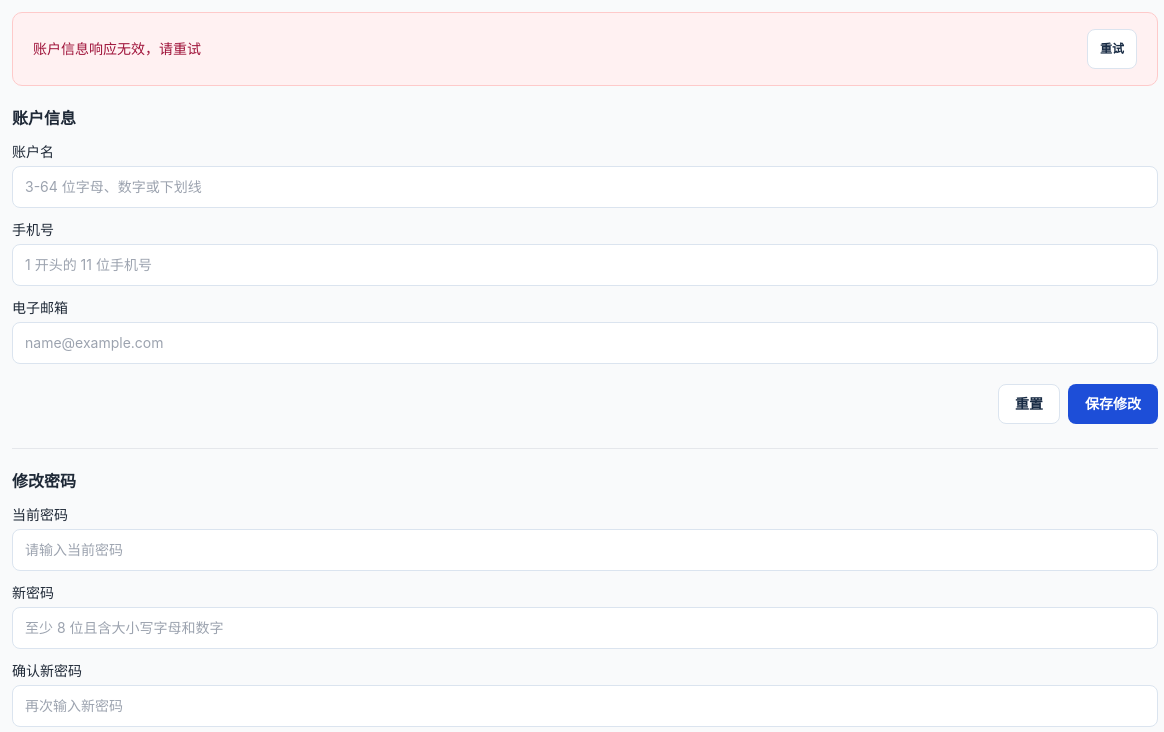
Test: account form with the real API client and auth store › keeps a malformed GET unloaded and retries only after an explicit user action
Expected: the message "账户信息响应无效，请重试 重试" is shown, [12, 12, 1158, 86]
Expected: the button "保存修改" is disabled, [1068, 384, 1158, 424]
Step 1. Click the button "重试" → (1112, 49), box [1087, 29, 1137, 69]
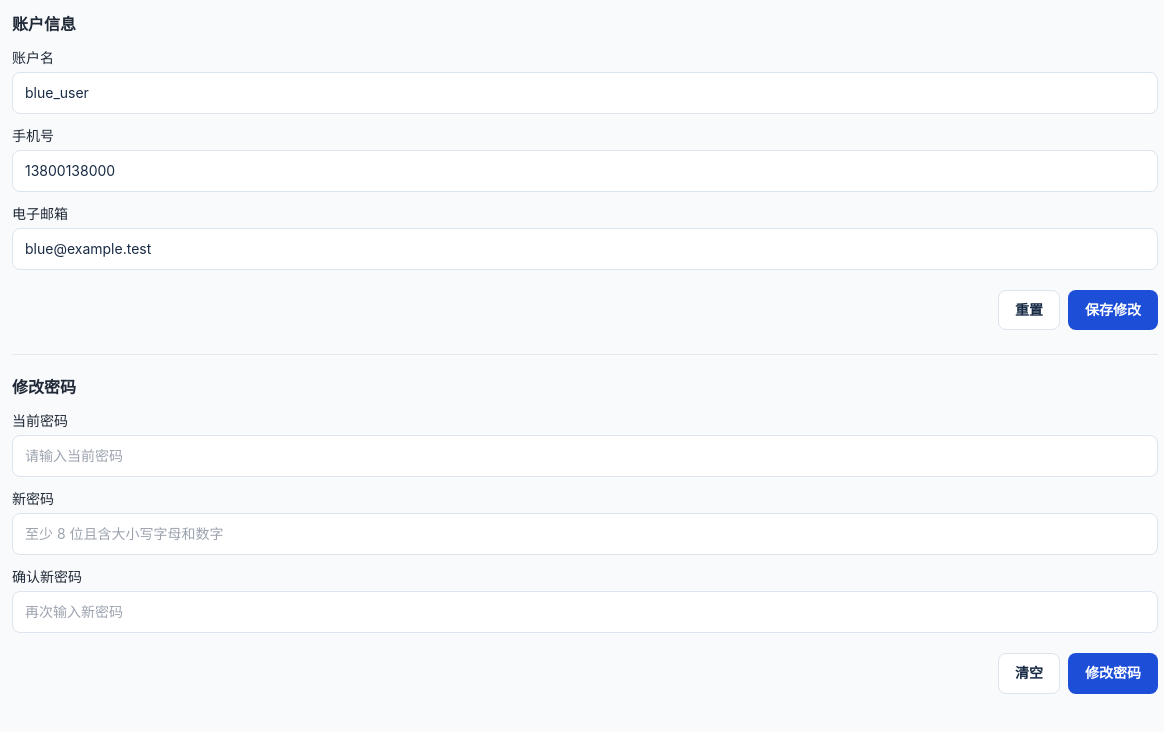
Expected: the field with id "settings-account-username" holds "blue_user", [12, 72, 1158, 114]
